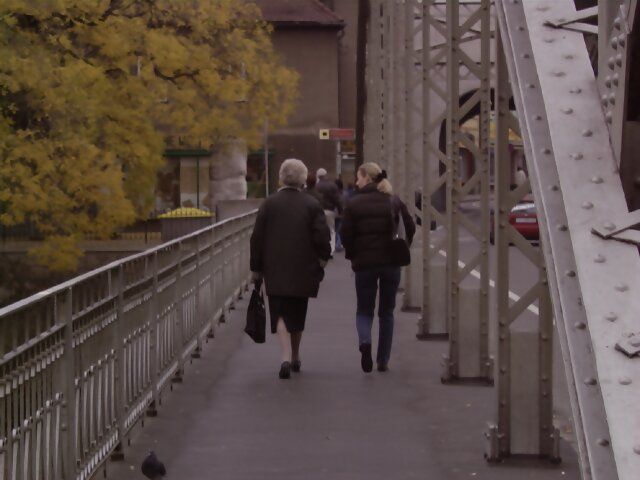person: (244, 157, 328, 378), (337, 159, 423, 371)
